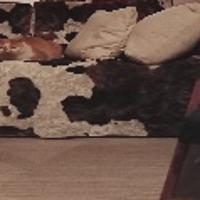asleep: (0, 31, 63, 60)
